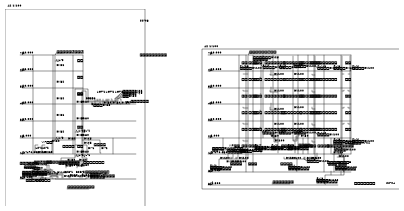door: (299, 50, 300, 56)
room: (219, 37, 249, 160), (57, 48, 84, 125), (51, 71, 72, 160), (328, 23, 347, 56), (72, 111, 96, 125), (32, 56, 51, 71), (78, 57, 98, 71), (28, 30, 49, 38), (79, 57, 85, 65), (25, 29, 29, 37), (46, 30, 54, 33), (38, 57, 41, 65), (31, 57, 34, 65)
wall: (35, 30, 59, 34), (52, 29, 83, 30), (41, 38, 43, 43), (107, 111, 114, 112), (31, 38, 33, 41), (29, 38, 31, 39), (26, 41, 27, 43), (39, 35, 40, 37), (40, 38, 42, 39), (27, 29, 28, 30), (36, 38, 37, 39), (46, 38, 47, 39), (41, 29, 42, 30), (89, 109, 89, 111)
